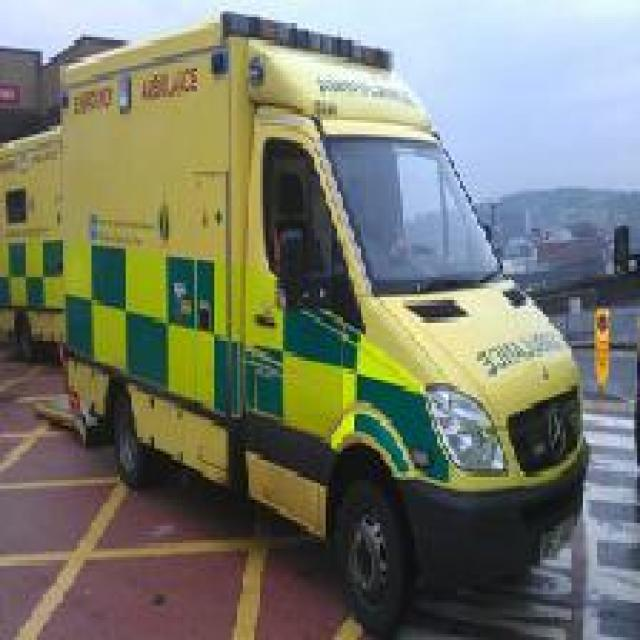Ambulance: (47, 58, 570, 588)
